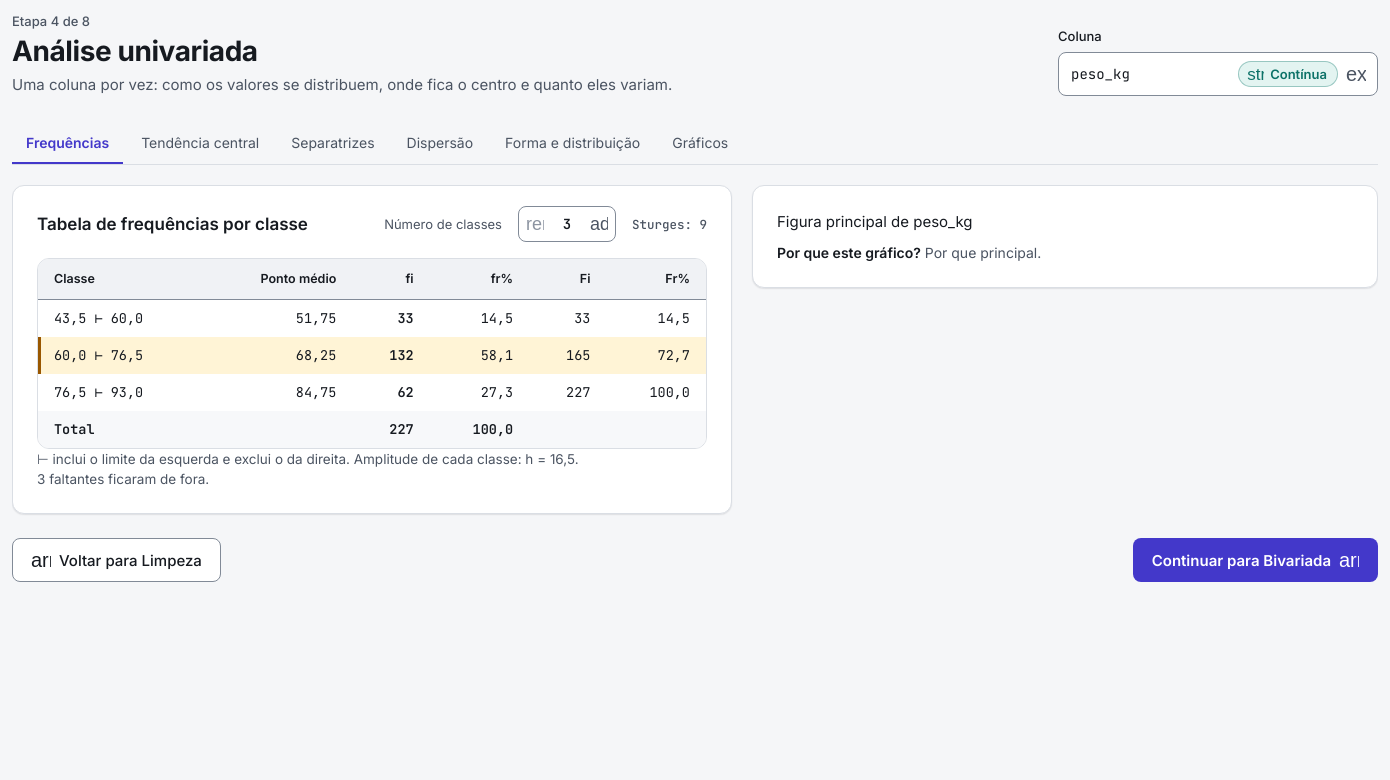
PaginaAnalise › aba "Forma e distribuição" mostra os ajustes da coluna
Expected: the text "60,0 ⊢ 76,5" is shown, [38,337,204,374]
Click the tab "Forma e distribuição": (573, 142) [491,120,654,164]
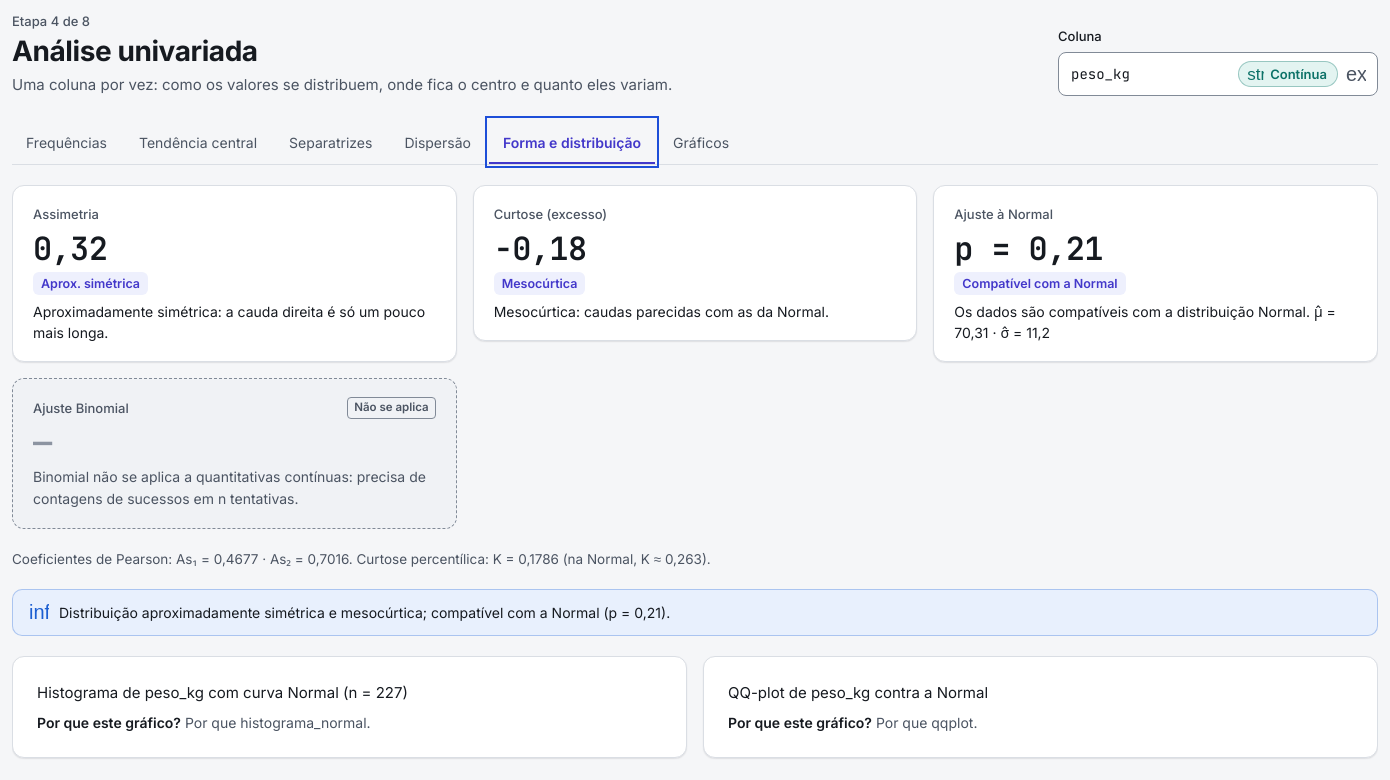
Result: the heading "Ajuste à Normal" is shown at [954,206,1053,222]
Result: the text "Compatível com a Normal" is shown at [954,272,1126,295]
